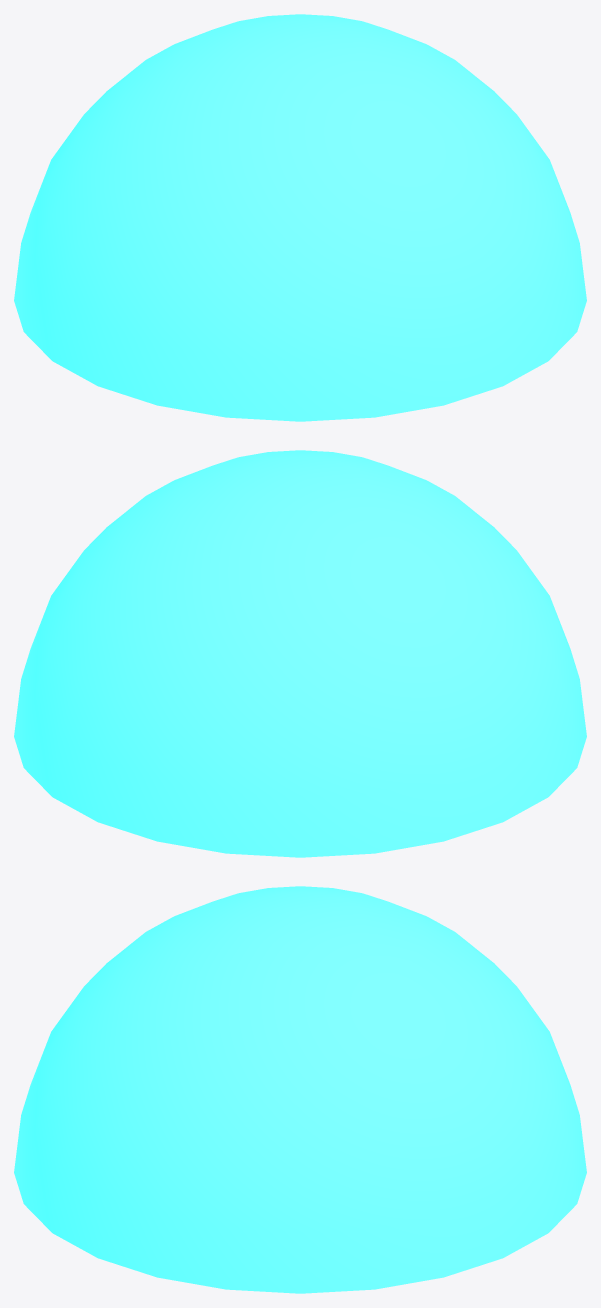
Rendered from generador_escudo_t3.fbx.
3 views of the same model, one above another, from view 1: azimuth 30°, elevation 25°; view 2: azimuth 150°, elevation 25°; view 3: azimuth 270°, elevation 25° (orthographic).
Parts seen in each view (by area): view 1: generador_escudo_t3_domo; view 2: generador_escudo_t3_domo; view 3: generador_escudo_t3_domo.
Boxes of the visible parts, x1=… form: generador_escudo_t3_domo: x1=14, y1=14, x2=586, y2=421; generador_escudo_t3_domo: x1=14, y1=450, x2=586, y2=857; generador_escudo_t3_domo: x1=14, y1=886, x2=586, y2=1293.
Bounding box in the file's own units: 7.2 × 3.95 × 7.2.
